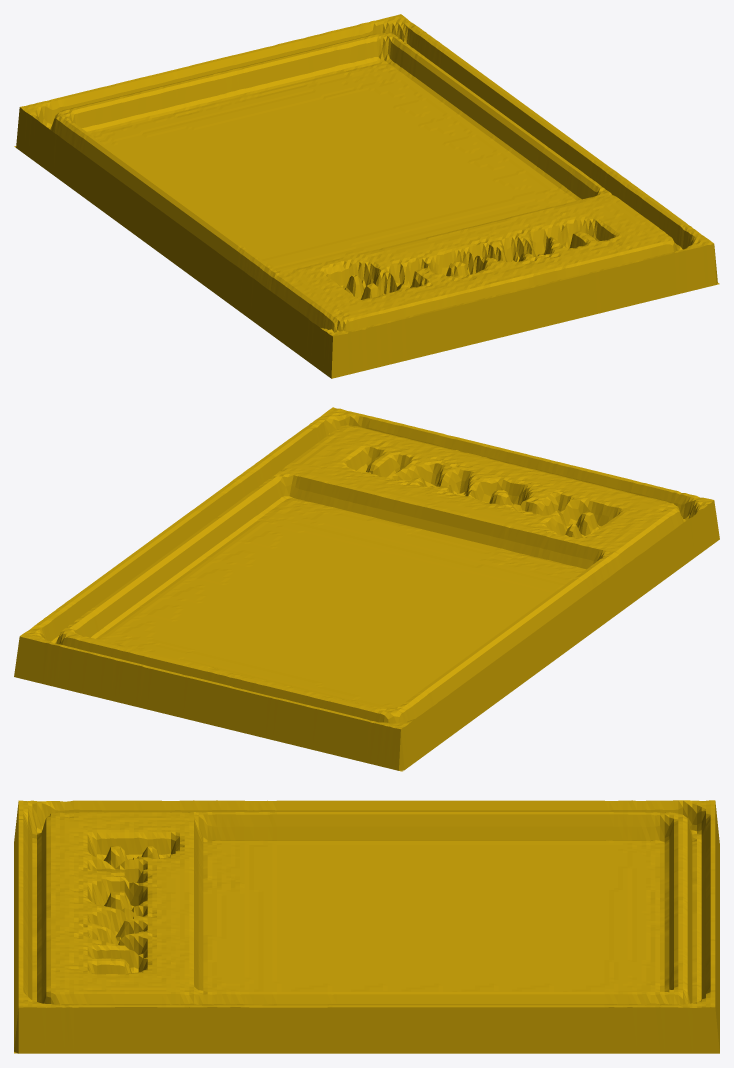
3 views of the same model, one above another, from view 1: azimuth 30°, elevation 25°; view 2: azimuth 150°, elevation 25°; view 3: azimuth 270°, elevation 25° (orthographic). The views are drawn at different scales.
Visible parts, largest first — view 1: imagetostl_mesh0; view 2: imagetostl_mesh0; view 3: imagetostl_mesh0.
Part boxes in pixels (x1=…): imagetostl_mesh0: x1=14, y1=14, x2=719, y2=378; imagetostl_mesh0: x1=14, y1=407, x2=719, y2=771; imagetostl_mesh0: x1=14, y1=800, x2=719, y2=1053.
Bounding box in the file's own units: 2564 × 254 × 3629.
